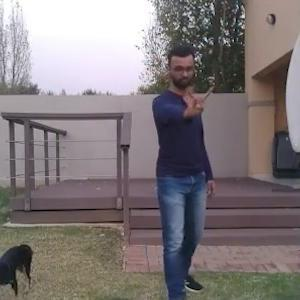takeoff-hand: (180, 77, 217, 120)
